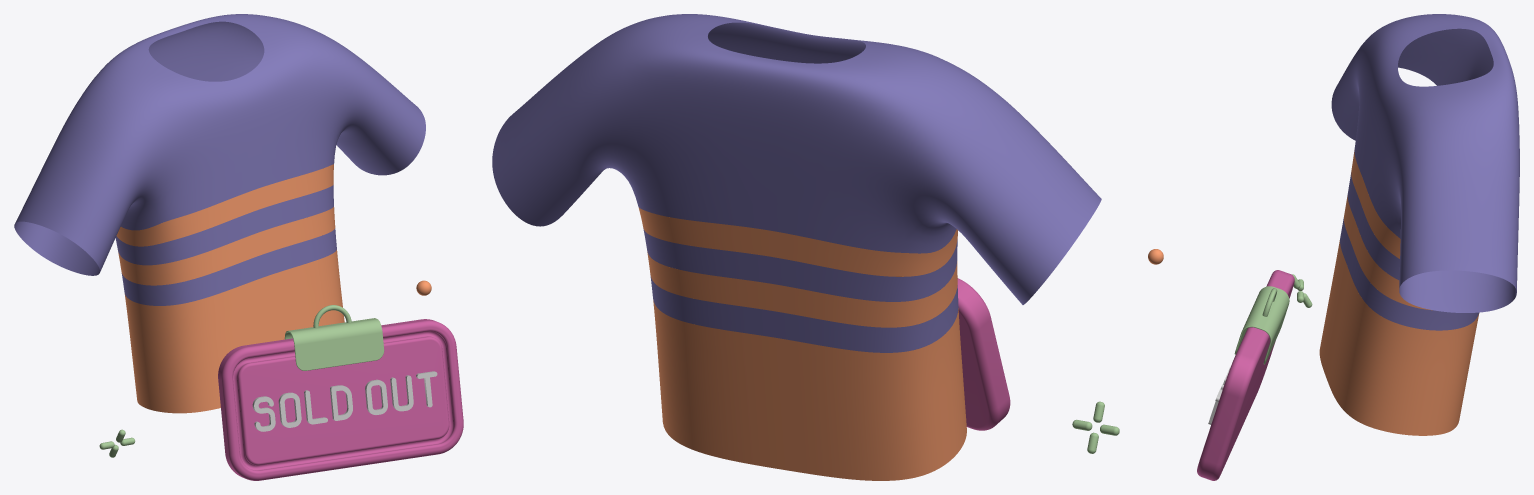
The model's file is sold-out-3d-animated-icon-479090574573.glb.
3 renders of one model, left to right at view 1: azimuth 30°, elevation 25°; view 2: azimuth 150°, elevation 25°; view 3: azimuth 270°, elevation 25°, orthographic. The views are drawn at different scales.
Parts seen in each view (by area): view 1: Cube.001, Cube, Plane, Curve, Curve.002, Curve.003, Curve.006, Curve.004; view 2: Cube.001, Cube, Cylinder.020; view 3: Cube.001, Cube, Plane.
Part boxes in pixels (x1,y1,x2,y2): Cube.001: [14, 14, 425, 413]; Cube: [218, 319, 463, 480]; Plane: [284, 318, 384, 370]; Curve: [330, 385, 352, 420]; Curve.002: [278, 392, 301, 427]; Curve.003: [365, 379, 387, 414]; Curve.006: [390, 375, 413, 411]; Curve.004: [252, 396, 275, 431]; Cube.001: [492, 14, 1101, 480]; Cube: [957, 278, 1010, 430]; Cylinder.020: [1072, 401, 1119, 453]; Cube.001: [1319, 14, 1519, 435]; Cube: [1197, 270, 1294, 480]; Plane: [1234, 286, 1289, 364].
Bounding box in the file's own units: 2.24 × 1.85 × 1.7.
